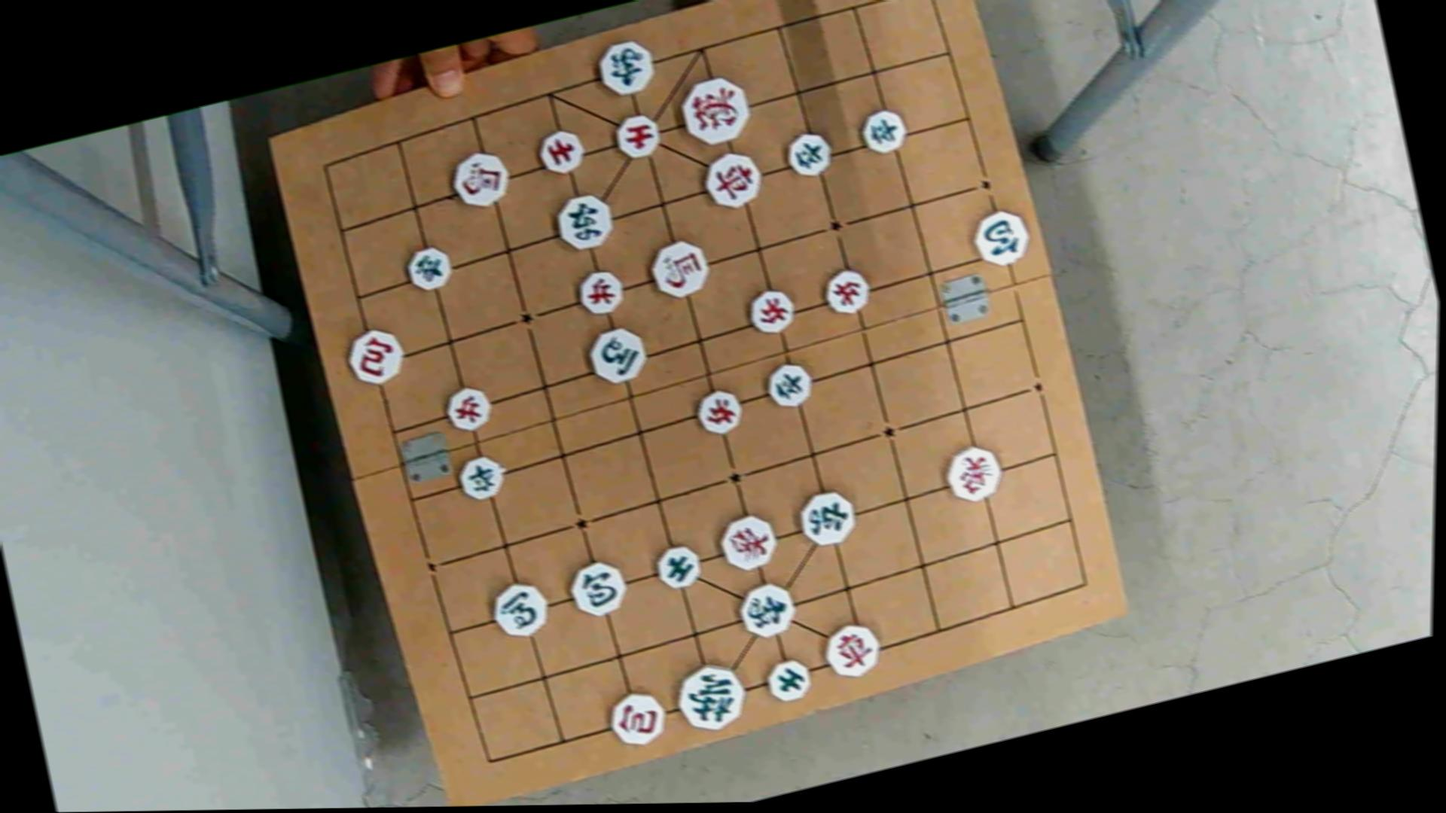cha_green: (551, 185, 621, 255), (791, 490, 859, 552)
cha_red: (697, 147, 768, 209), (814, 619, 883, 681)
jol_green: (761, 359, 819, 413), (778, 129, 836, 178), (452, 454, 509, 502), (856, 105, 911, 154), (402, 245, 456, 294)
jol_red: (438, 384, 496, 433), (691, 386, 747, 435), (819, 268, 875, 317), (573, 266, 627, 316), (743, 288, 799, 336)
ma_green: (581, 324, 654, 387), (485, 580, 552, 640)
ma_red: (646, 236, 713, 303), (447, 151, 515, 212)
po_green: (964, 207, 1035, 269), (566, 559, 631, 618)
po_red: (341, 326, 411, 387), (602, 689, 671, 749)
sa_green: (761, 656, 819, 706), (651, 543, 706, 592)
sa_red: (608, 111, 667, 160), (535, 126, 591, 175)
sang_green: (731, 579, 800, 640), (591, 40, 659, 99)
sang_red: (714, 511, 783, 573), (939, 443, 1008, 504)
wang_green: (672, 662, 754, 734)
wang_red: (671, 72, 755, 148)
